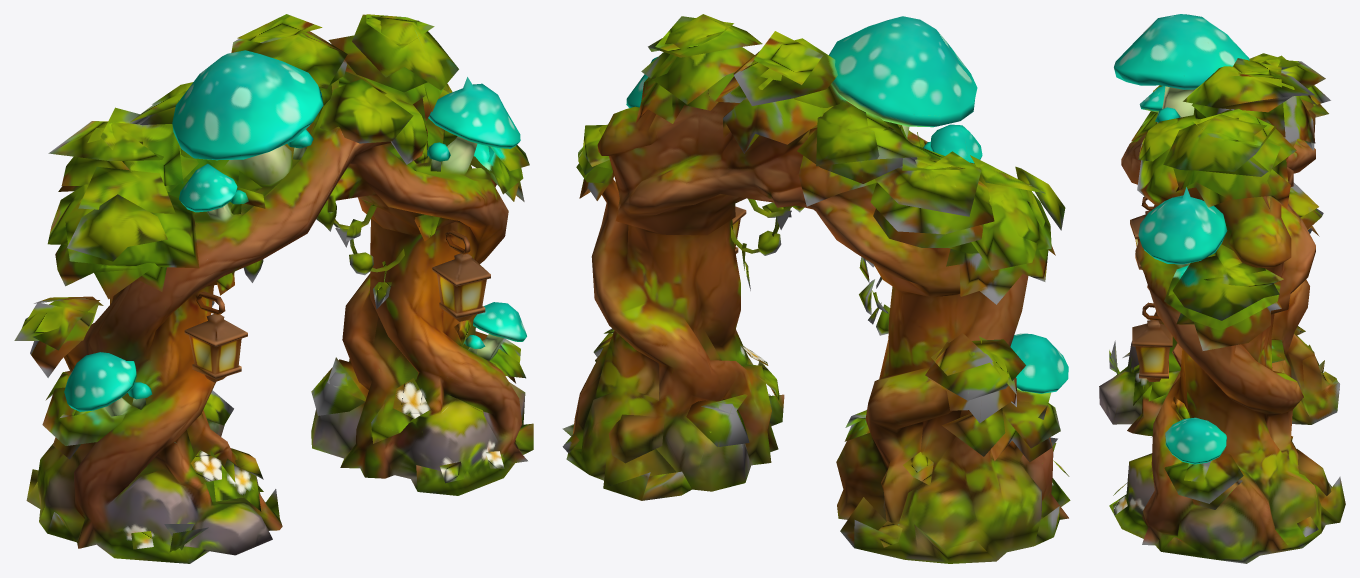
The model's file is root_gate.glb.
3 renders of one model, left to right at view 1: azimuth 30°, elevation 25°; view 2: azimuth 150°, elevation 25°; view 3: azimuth 270°, elevation 25°, orthographic. The views are drawn at different scales.
Visible parts, largest first — view 1: geometry_0; view 2: geometry_0; view 3: geometry_0.
Part boxes in pixels (box(x1,y1,x2,y2)): geometry_0: box(14, 14, 533, 563); geometry_0: box(562, 14, 1070, 563); geometry_0: box(1099, 14, 1345, 563).
Size of the model in its own units: 0.9575 by 0.8628 by 0.4697.
1 material, 1 textured.
